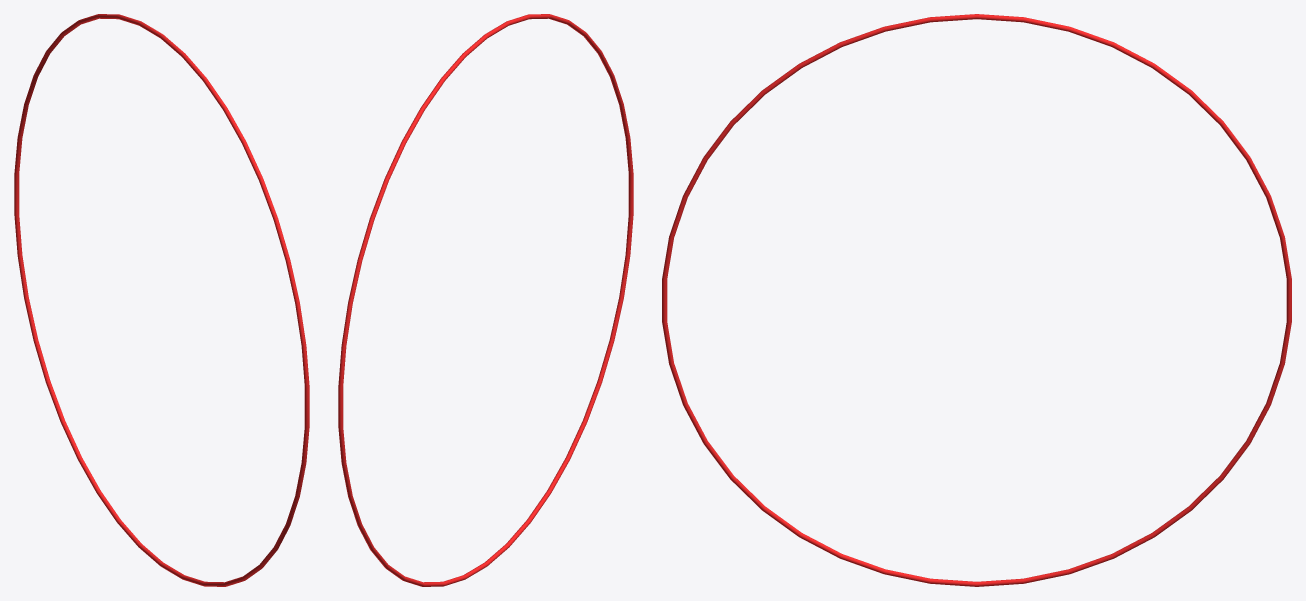
File: Rotate_X.fbx
3 renders of one model, left to right at view 1: azimuth 30°, elevation 25°; view 2: azimuth 150°, elevation 25°; view 3: azimuth 270°, elevation 25°, orthographic. The views are drawn at different scales.
Visible parts, largest first — view 1: X_Axis; view 2: X_Axis; view 3: X_Axis.
Boxes of the visible parts, box(x1,y1,x2,y2) form: X_Axis: box(14, 14, 309, 586); X_Axis: box(338, 14, 633, 586); X_Axis: box(662, 14, 1291, 586).
Size of the model in its own units: 0.9848 by 121 by 121.
